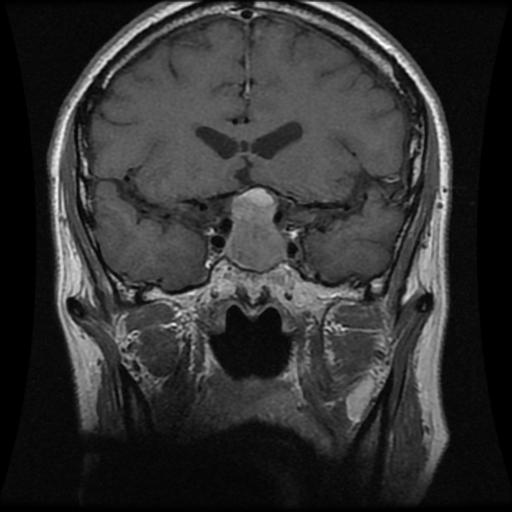Pituirity_tumour: (226, 190, 286, 270)
